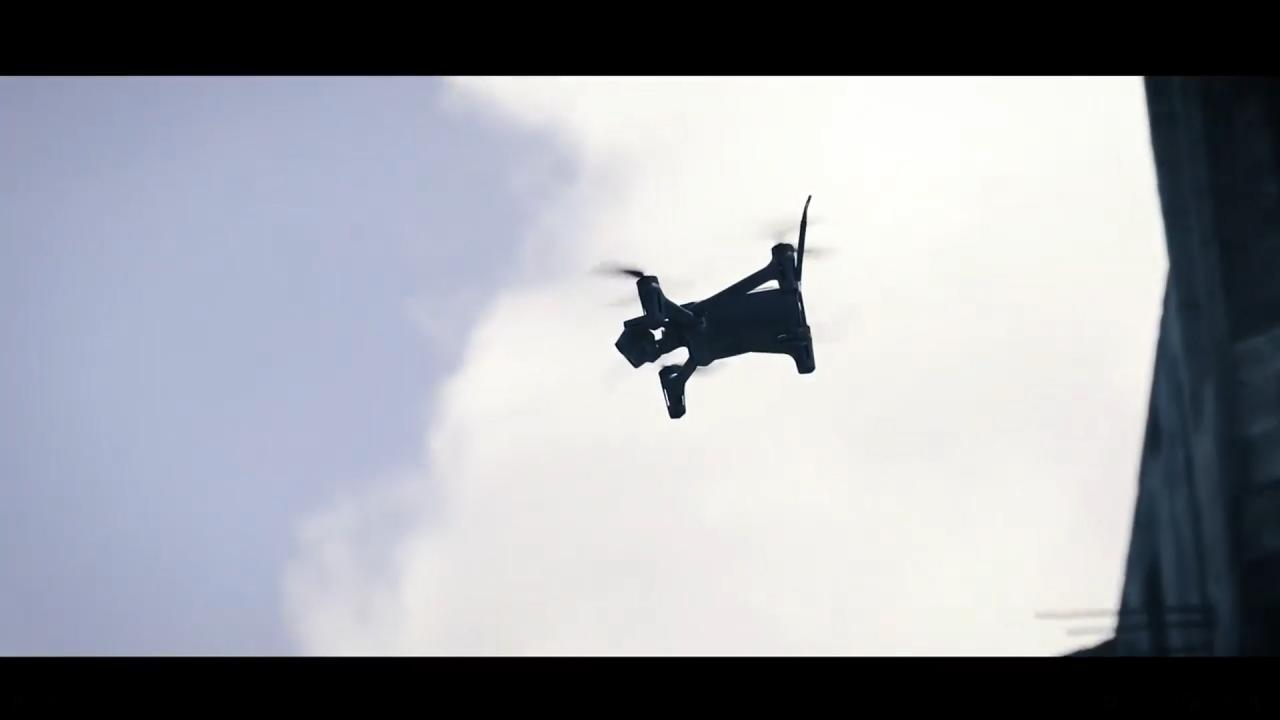Drone: (573, 174, 853, 434)
